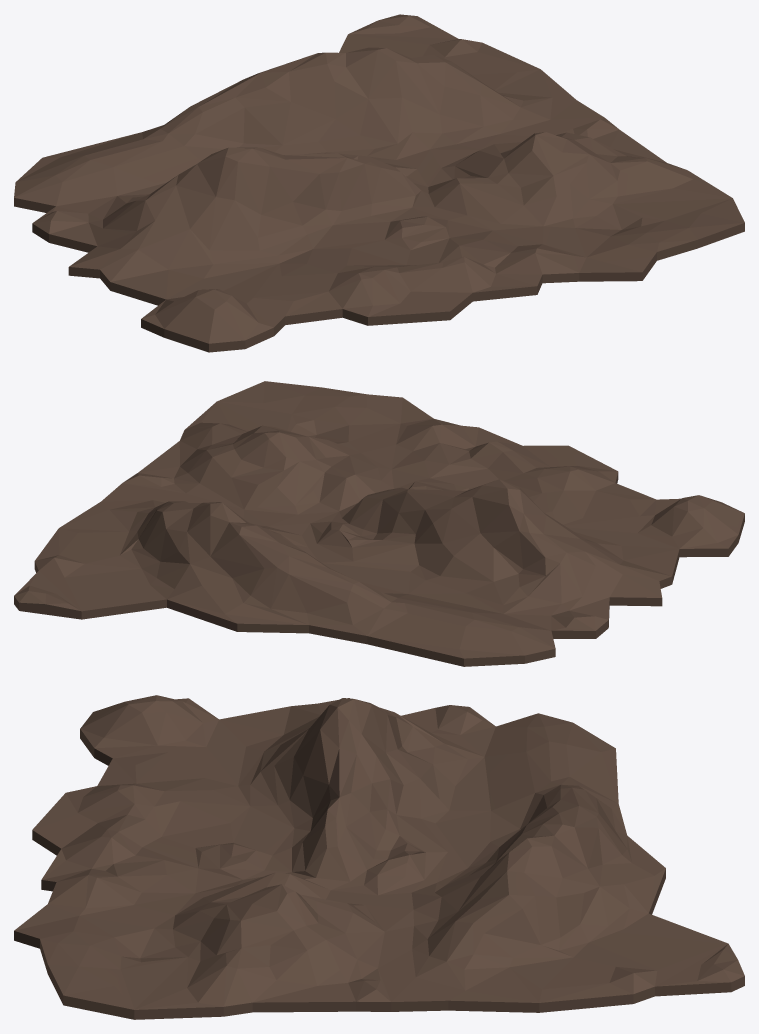
Rendered from delh_terr_01_02.fbx.
3 views of the same model, one above another, from view 1: azimuth 30°, elevation 25°; view 2: azimuth 150°, elevation 25°; view 3: azimuth 270°, elevation 25° (orthographic). The views are drawn at different scales.
Parts seen in each view (by area): view 1: delh_terr_01_02; view 2: delh_terr_01_02; view 3: delh_terr_01_02.
Boxes of the visible parts, x1=… form: delh_terr_01_02: x1=14, y1=14, x2=744, y2=352; delh_terr_01_02: x1=14, y1=381, x2=744, y2=666; delh_terr_01_02: x1=14, y1=695, x2=744, y2=1019.
Size of the model in its own units: 15078 by 2219 by 14927.
